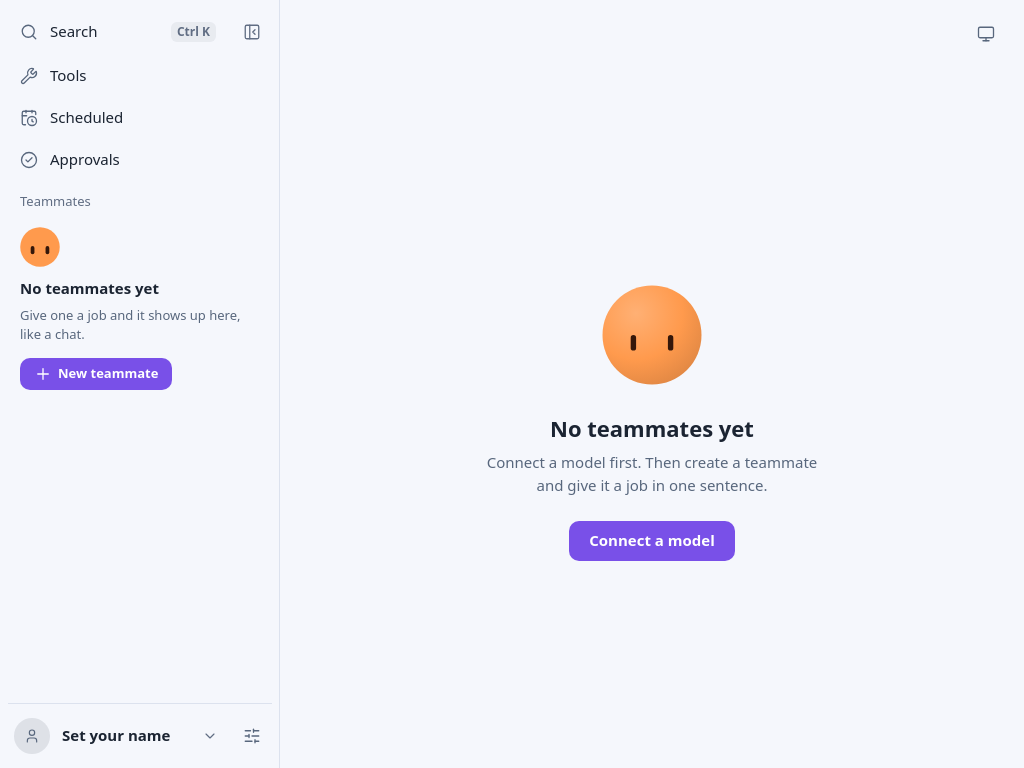
Test case: teammates view › opens the context panel as a sheet below 1100 px
Expected: the element "Context" is not shown
Click the button named "Show computer panel": point(986, 34) [968,16,1004,52]
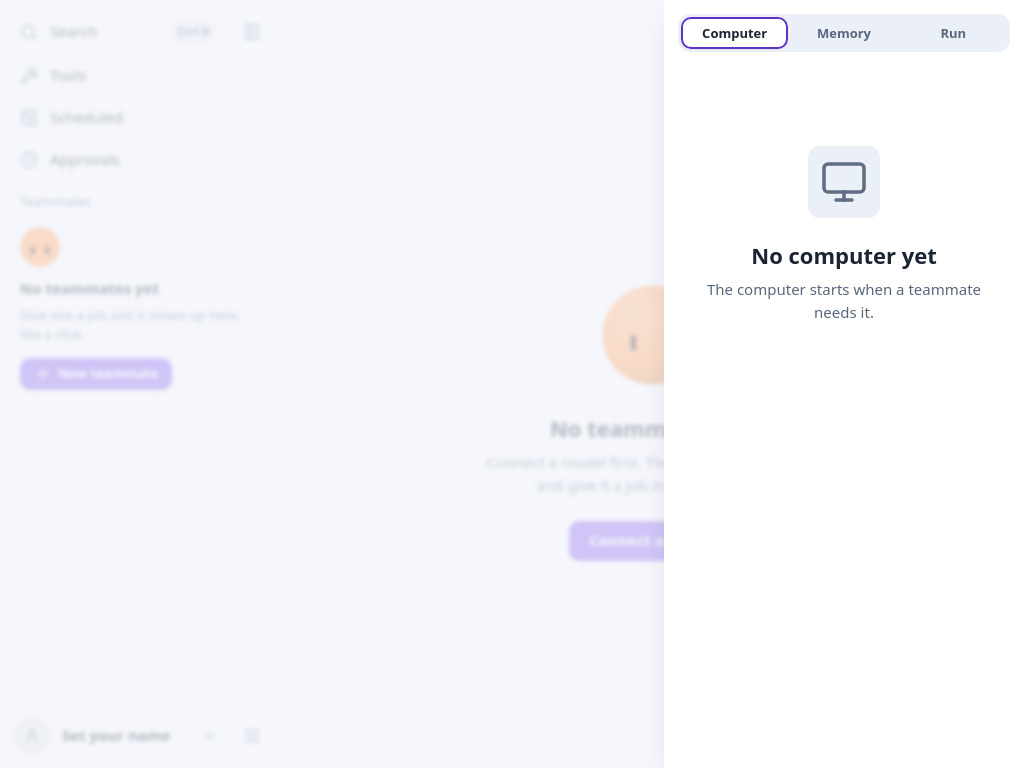
Result: the tab "Computer" is shown at [681,17,788,49]
